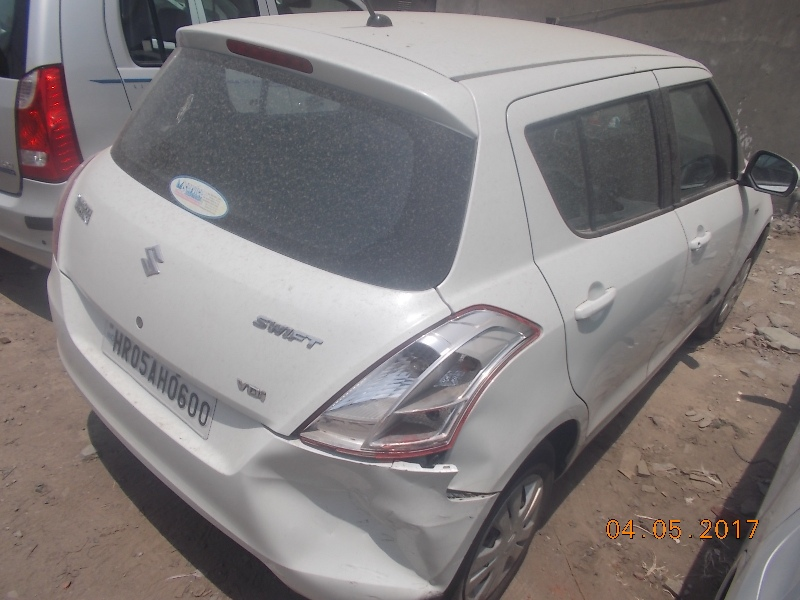Dent: (247, 448, 453, 576)
